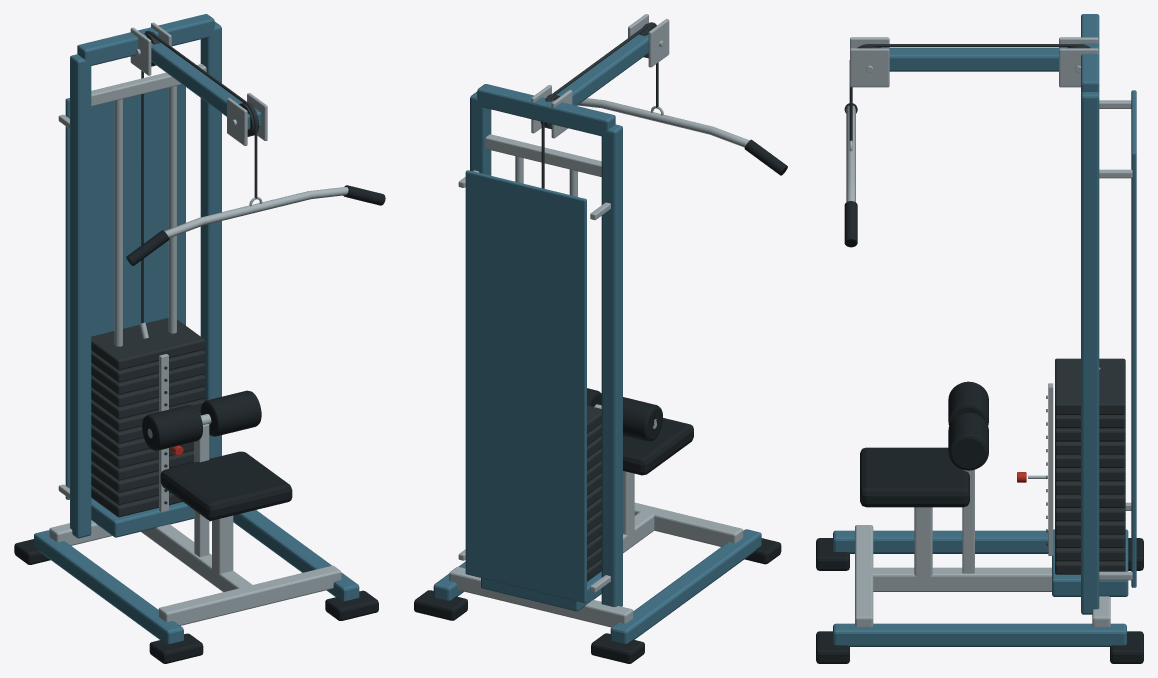
The model's file is city-lat-pulldown-station.glb.
3 renders of one model, left to right at view 1: azimuth 30°, elevation 25°; view 2: azimuth 150°, elevation 25°; view 3: azimuth 270°, elevation 25°, orthographic. The views are drawn at different scales.
Parts seen in each view (by area): view 1: Assembly | Muted blue enamel, Assembly | Satin tubular steel, Assembly | Dark molded body, Assembly | Matte rubber and pads; view 2: Assembly | Muted blue enamel, Assembly | Satin tubular steel, Assembly | Matte rubber and pads, Assembly | Dark molded body; view 3: Assembly | Muted blue enamel, Assembly | Satin tubular steel, Assembly | Matte rubber and pads, Assembly | Dark molded body.
Part boxes in pixels (x1=…): Assembly | Muted blue enamel: x1=34, y1=14, x2=359, y2=643; Assembly | Satin tubular steel: x1=49, y1=22, x2=348, y2=625; Assembly | Dark molded body: x1=91, y1=31, x2=258, y2=517; Assembly | Matte rubber and pads: x1=14, y1=185, x2=385, y2=663; Assembly | Muted blue enamel: x1=433, y1=34, x2=761, y2=643; Assembly | Satin tubular steel: x1=449, y1=14, x2=749, y2=627; Assembly | Matte rubber and pads: x1=414, y1=139, x2=787, y2=663; Assembly | Dark molded body: x1=540, y1=22, x2=658, y2=581; Assembly | Muted blue enamel: x1=833, y1=14, x2=1136, y2=646; Assembly | Satin tubular steel: x1=846, y1=37, x2=1132, y2=626; Assembly | Matte rubber and pads: x1=816, y1=103, x2=1143, y2=663; Assembly | Dark molded body: x1=849, y1=44, x2=1125, y2=574.
Size of the model in its own units: 1.14 by 2.21 by 1.16.
